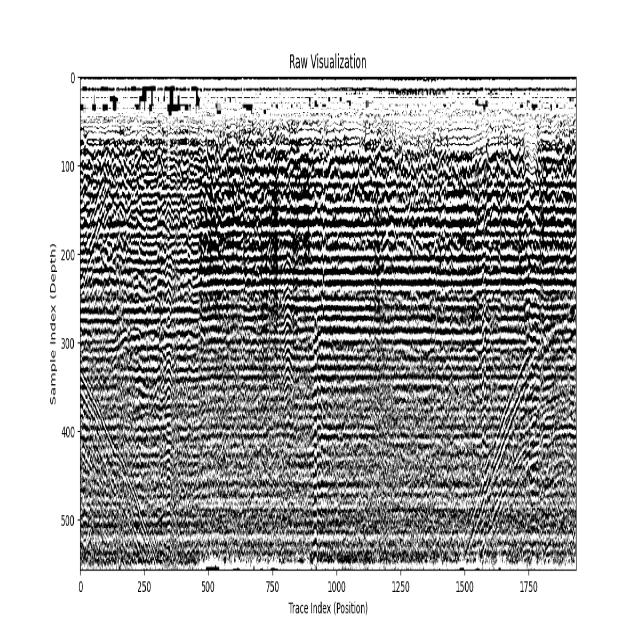anomaly: (452, 310, 574, 566), (80, 358, 154, 571)
